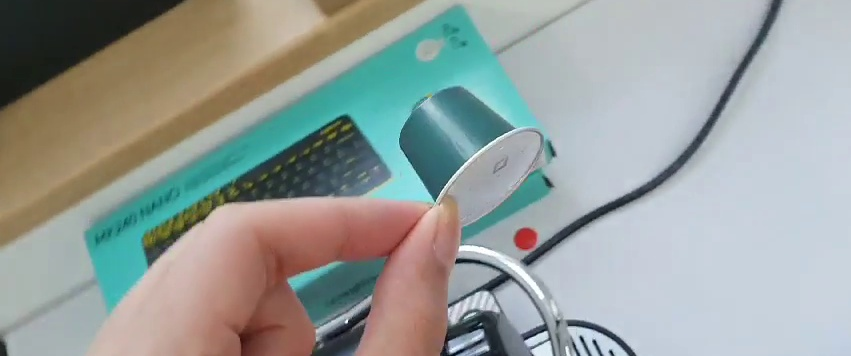capsule_13: (395, 83, 547, 223)
